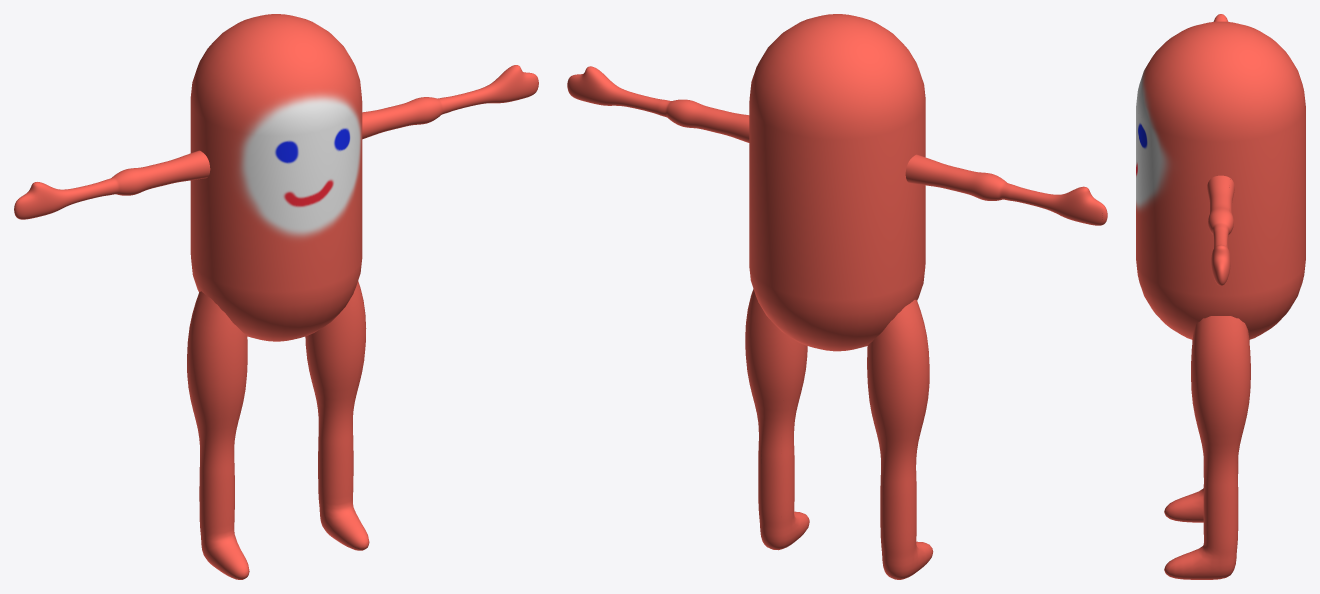
Rendered from FallGuy.fbx_Raw.fbx.
3 views of the same model, side by side, from view 1: azimuth 30°, elevation 25°; view 2: azimuth 150°, elevation 25°; view 3: azimuth 270°, elevation 25° (orthographic). The views are drawn at different scales.
Parts seen in each view (by area): view 1: Körper_RAW, Beine_RAW, Arme_RAW; view 2: Körper_RAW, Beine_RAW, Arme_RAW; view 3: Körper_RAW, Beine_RAW, Arme_RAW.
Part boxes in pixels (left/top/right/bottom): Körper_RAW: left=190, top=14, right=362, bottom=341; Beine_RAW: left=187, top=281, right=369, bottom=579; Arme_RAW: left=14, top=65, right=538, bottom=219; Körper_RAW: left=749, top=14, right=925, bottom=351; Beine_RAW: left=745, top=289, right=933, bottom=579; Arme_RAW: left=567, top=66, right=1107, bottom=225; Körper_RAW: left=1136, top=21, right=1305, bottom=339; Beine_RAW: left=1164, top=316, right=1250, bottom=579; Arme_RAW: left=1207, top=14, right=1234, bottom=285.
Size of the model in its own units: 704 by 676 by 200.
2 materials, 2 textured.
